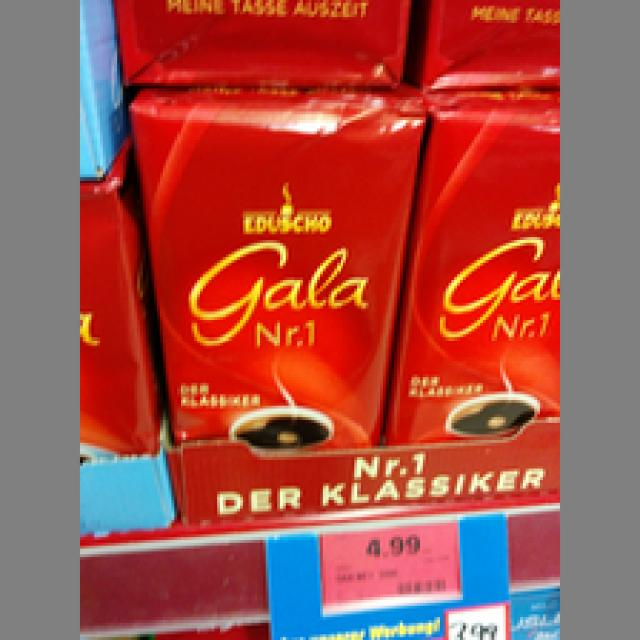groceries: (123, 83, 420, 446), (383, 89, 560, 437)
